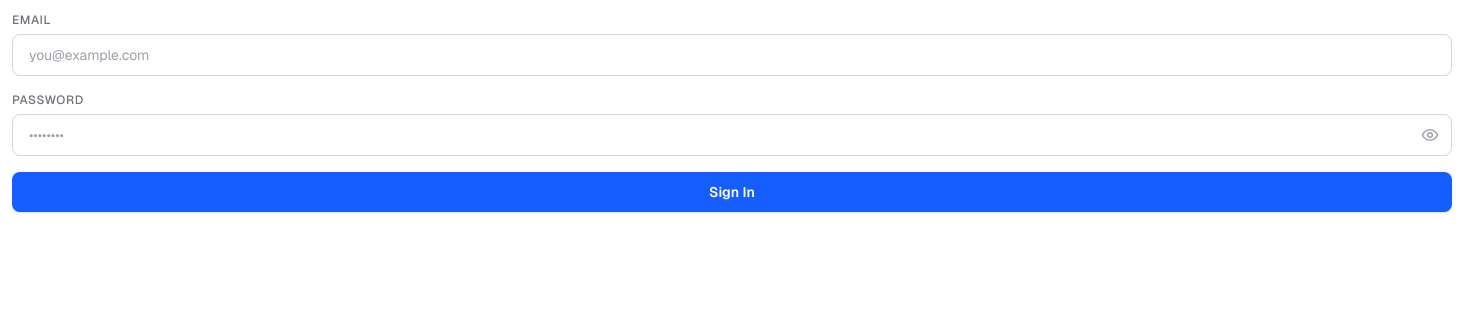
Test case: LoginForm › shows unverified-email recovery guidance
Type "u@example.com" into the field labelled "Email".
click(732, 55); type("u@example.com")  # box [12,34,1452,76]
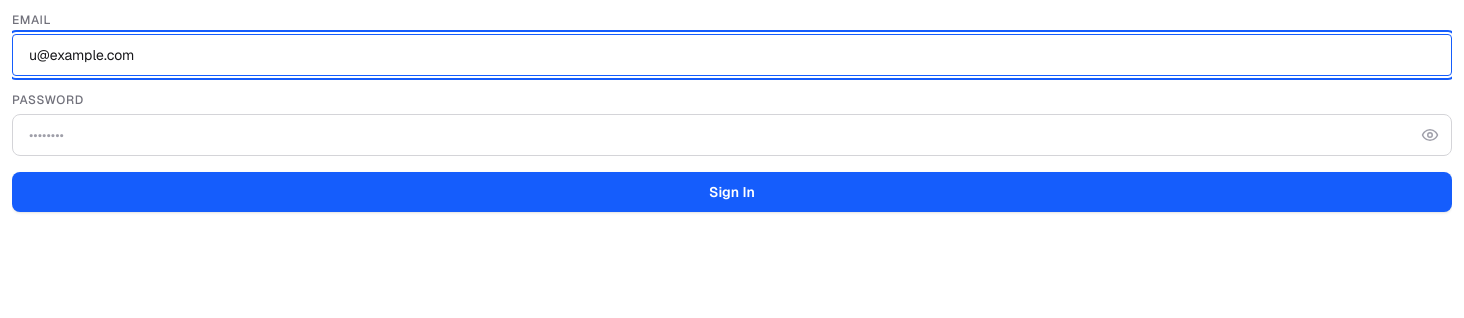
Type "password123" into the password field labelled "Password".
click(732, 135); type("password123")  # box [12,114,1452,156]
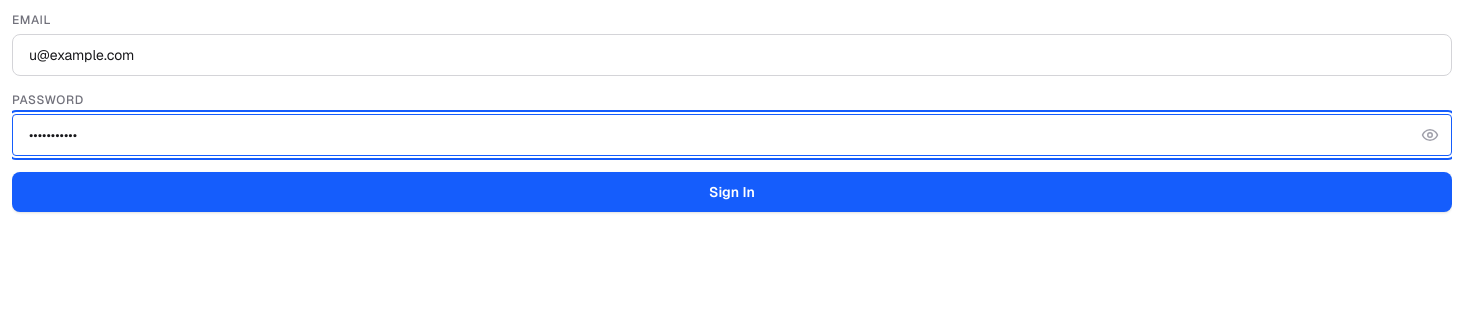
Click the button "Sign In".
click(732, 192)  # box [12,172,1452,212]
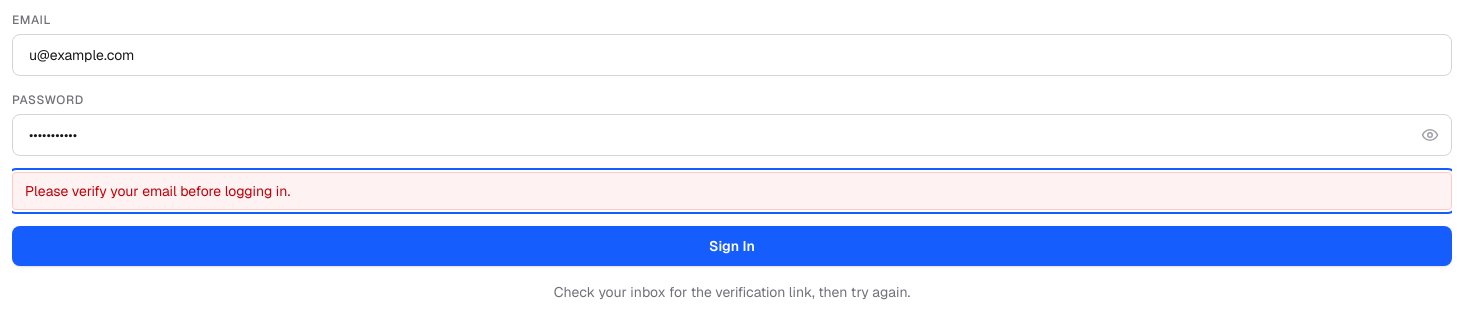
Now the message reads "Please verify your email before logging in.", box [25,182,290,200]
Now the text "Check your inbox for the verification link, then try again." is shown, box [554,283,910,301]
